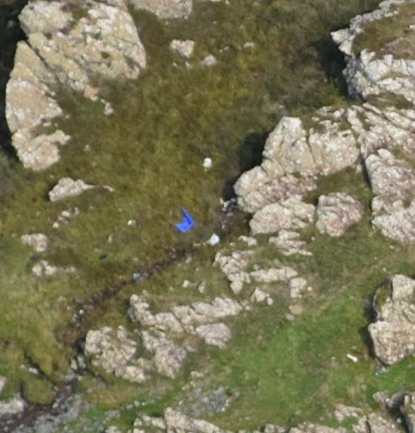scattered_barrel: (159, 146, 231, 246)
